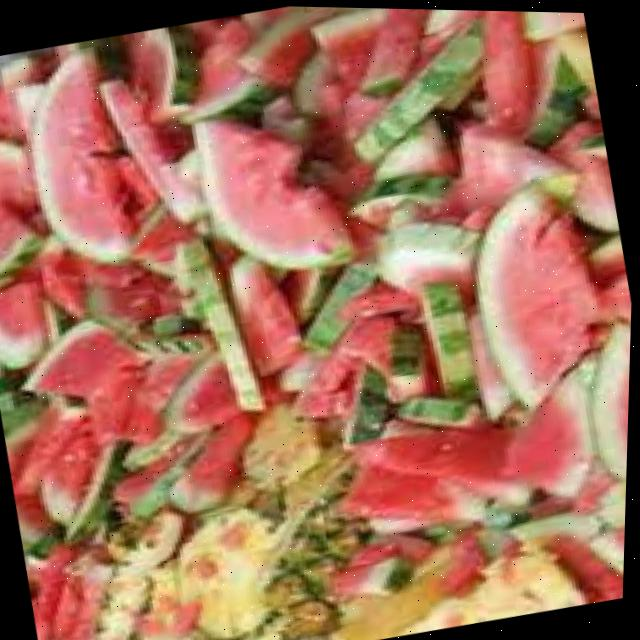Wet: (0, 0, 640, 640), (180, 87, 358, 290)
